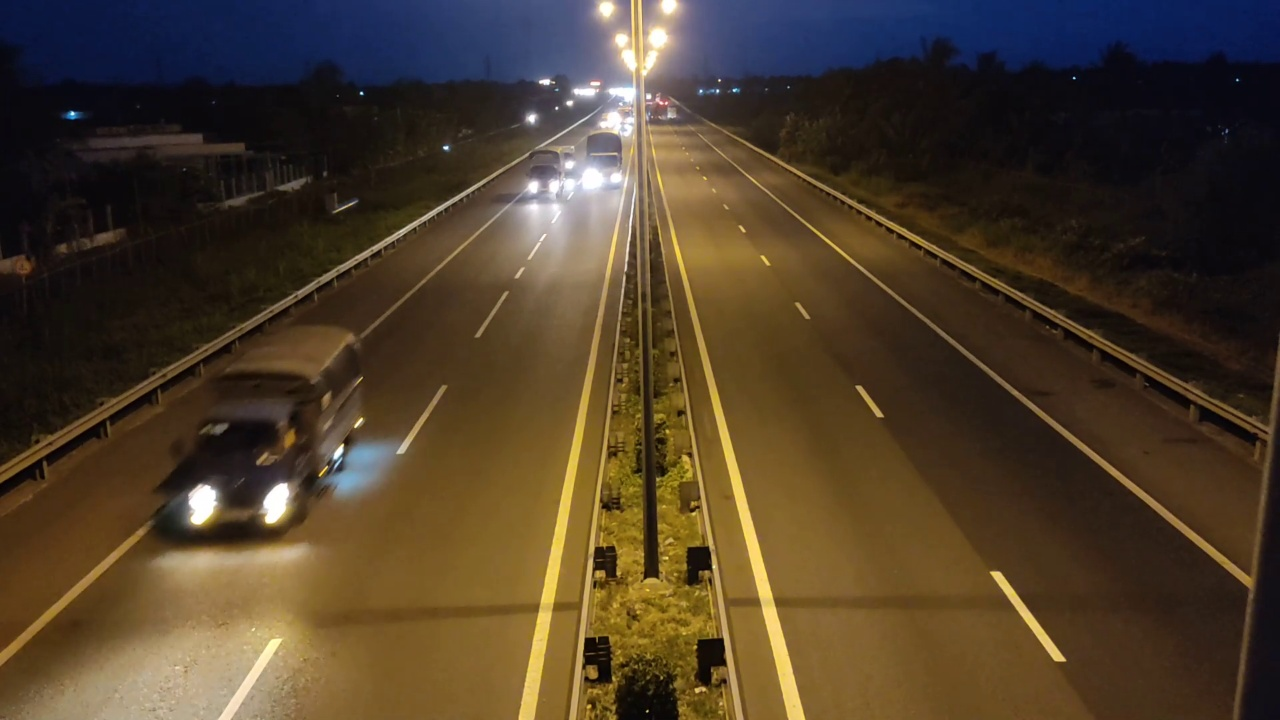truck: (156, 316, 369, 551)
